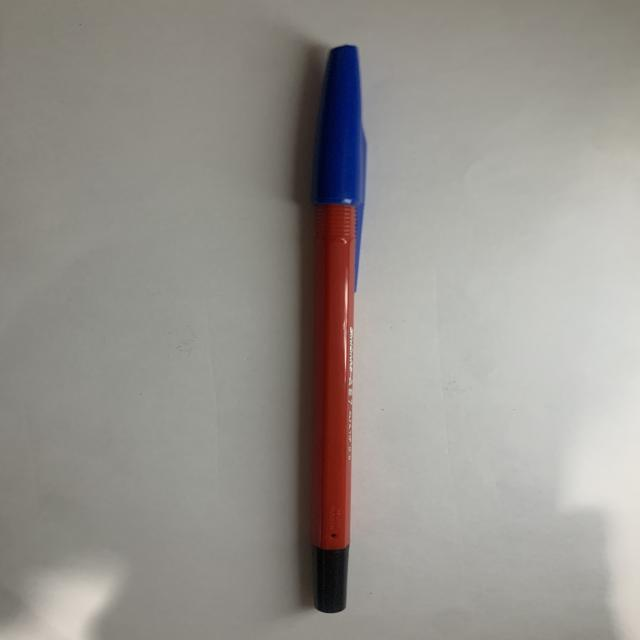Pulpen: (290, 36, 382, 626)
